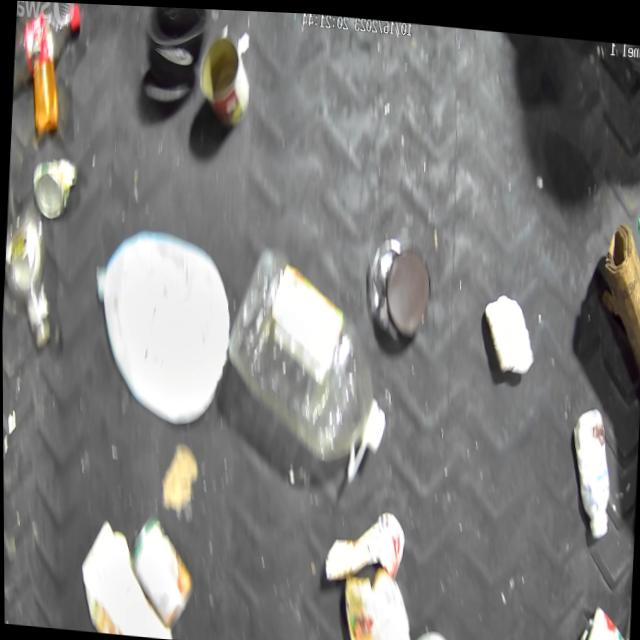can: (126, 511, 195, 629), (195, 29, 252, 125), (29, 154, 78, 220), (571, 594, 630, 640)
milk_jug: (87, 222, 234, 426)
plastic_bottle: (219, 238, 393, 480), (11, 0, 82, 100)
